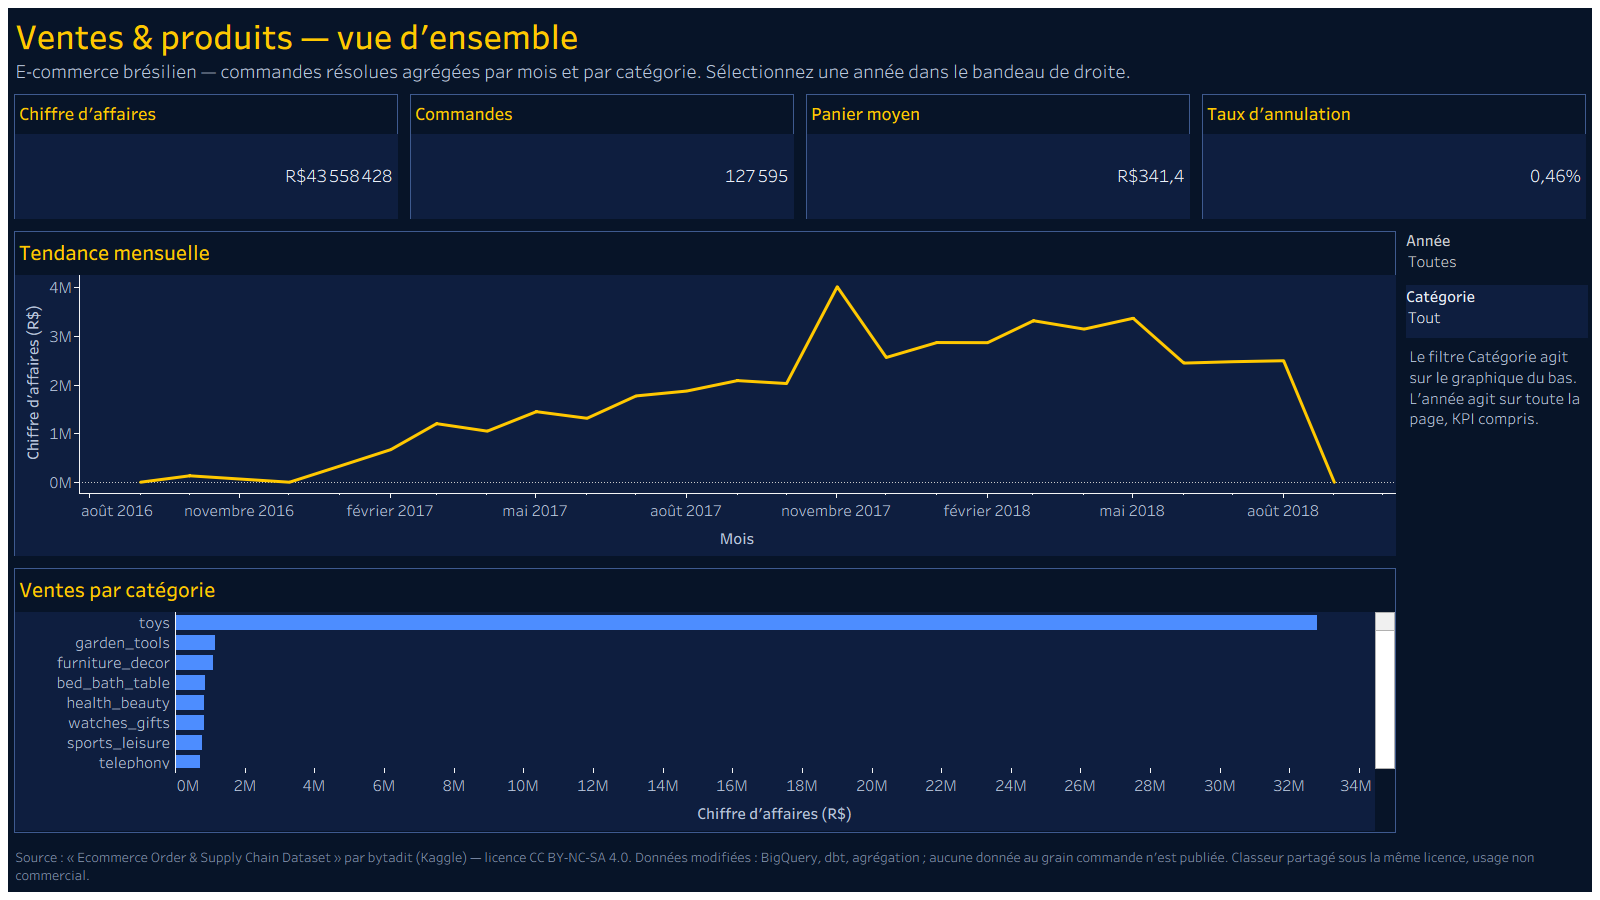

This screenshot's page, from the dashboard's own definition file:
{"tool":"tableau","page":{"name":"Vue d'ensemble","canvas":[1600,900],"ordinal":3},"visuals":[{"type":"text","box":[12.8,9,1574.4,79.4]},{"type":"worksheet","title":"KPI Chiffre d'affaires","mark":"Automatic","box":[12.8,88.4,393.6,136.7]},{"type":"worksheet","title":"KPI Commandes","mark":"Automatic","box":[406.4,88.4,393.6,136.7]},{"type":"worksheet","title":"KPI Panier moyen","mark":"Automatic","box":[800,88.4,393.6,136.7]},{"type":"worksheet","title":"KPI Taux d'annulation","mark":"Automatic","box":[1193.6,88.4,393.6,136.7]},{"type":"worksheet","title":"Tendance mensuelle","mark":"Automatic","rows":["total_price"],"cols":["Calculation_1473408857972745"],"box":[12.8,225.1,1317.8,337.1]},{"type":"parameter","param":"[Parameters].[Paramètre 1473408854364161]","box":[1330.6,225.1,256.6,85.8]},{"type":"filter","title":"Ventes par catégorie","param":"[federated.031hxyk128uqvt1cfaucy0l2p0hk].[none:Calculation_1473408857305094:nk]","box":[1330.6,310.9,256.6,306.5]},{"type":"worksheet","title":"Ventes par catégorie","mark":"Automatic","rows":["Calculation_1473408857305094"],"cols":["total_price"],"box":[12.8,562.2,1317.8,275.8]},{"type":"text","box":[1330.6,617.4,256.6,220.7]},{"type":"text","box":[12.8,838.1,1574.4,52.9]}]}

Visuals, with their boxes in screenshot pixels (x1, y1, x2, y2), scaled from the page's 1600x900 canvas onto the 1600x900 screenshot:
text: [13, 9, 1587, 88]
"KPI Chiffre d'affaires" worksheet: [13, 88, 406, 225]
"KPI Commandes" worksheet: [406, 88, 800, 225]
"KPI Panier moyen" worksheet: [800, 88, 1194, 225]
"KPI Taux d'annulation" worksheet: [1194, 88, 1587, 225]
"Tendance mensuelle" worksheet: [13, 225, 1331, 562]
parameter: [1331, 225, 1587, 311]
"Ventes par catégorie" filter: [1331, 311, 1587, 617]
"Ventes par catégorie" worksheet: [13, 562, 1331, 838]
text: [1331, 617, 1587, 838]
text: [13, 838, 1587, 891]
